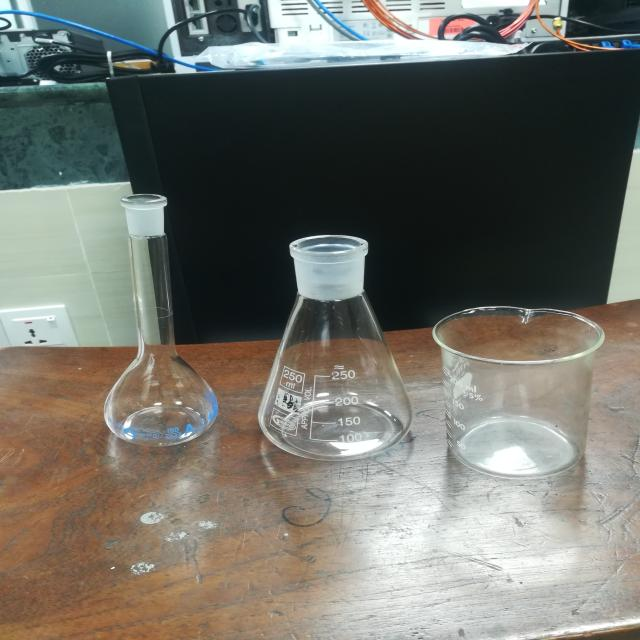Beaker: (432, 288, 610, 490)
Conical_Flask: (256, 223, 411, 469)
Volumetric_Flask: (91, 170, 223, 452)
